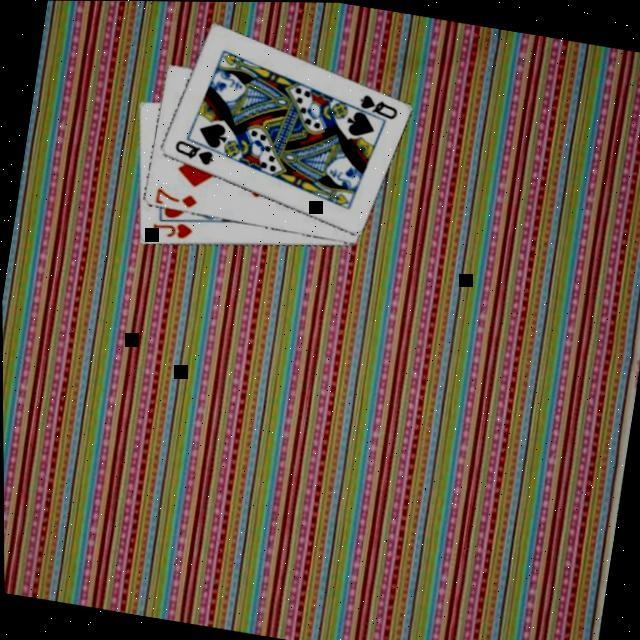7D: (152, 186, 201, 212)
JH: (149, 216, 197, 245)
QS: (169, 137, 218, 170), (355, 91, 403, 124)
